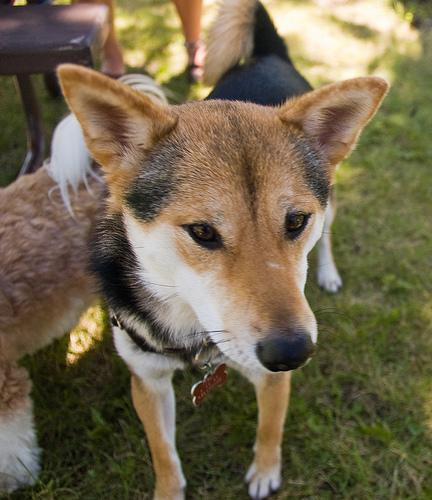dog-shiba_inu: (55, 61, 386, 371)
